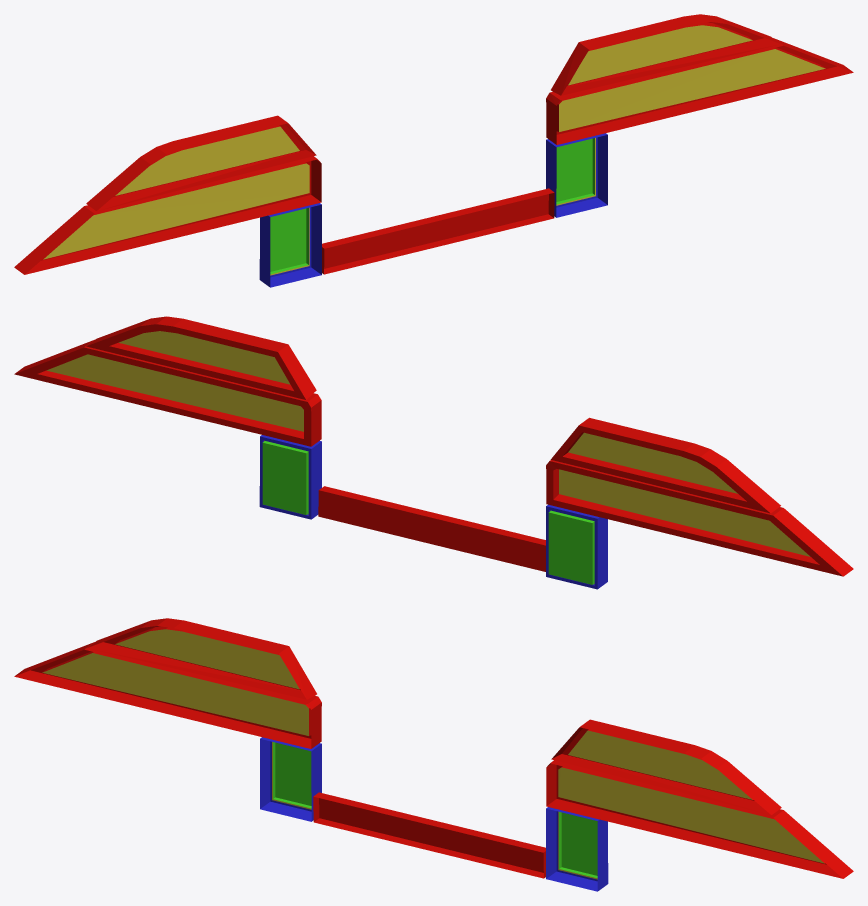
File: Bars.fbx
The picture shows the model from 3 angles, top to bottom: view 1: azimuth 30°, elevation 25°; view 2: azimuth 150°, elevation 25°; view 3: azimuth 330°, elevation 25°; orthographic projection.
Visible parts, largest first — view 1: Bars; view 2: Bars; view 3: Bars.
Boxes of the visible parts, x1,y1,x2,y2 form: Bars: (14,14,853,287); Bars: (14,316,853,589); Bars: (14,618,853,891).
Size of the model in its own units: 53.16 by 9.79 by 1.34.
